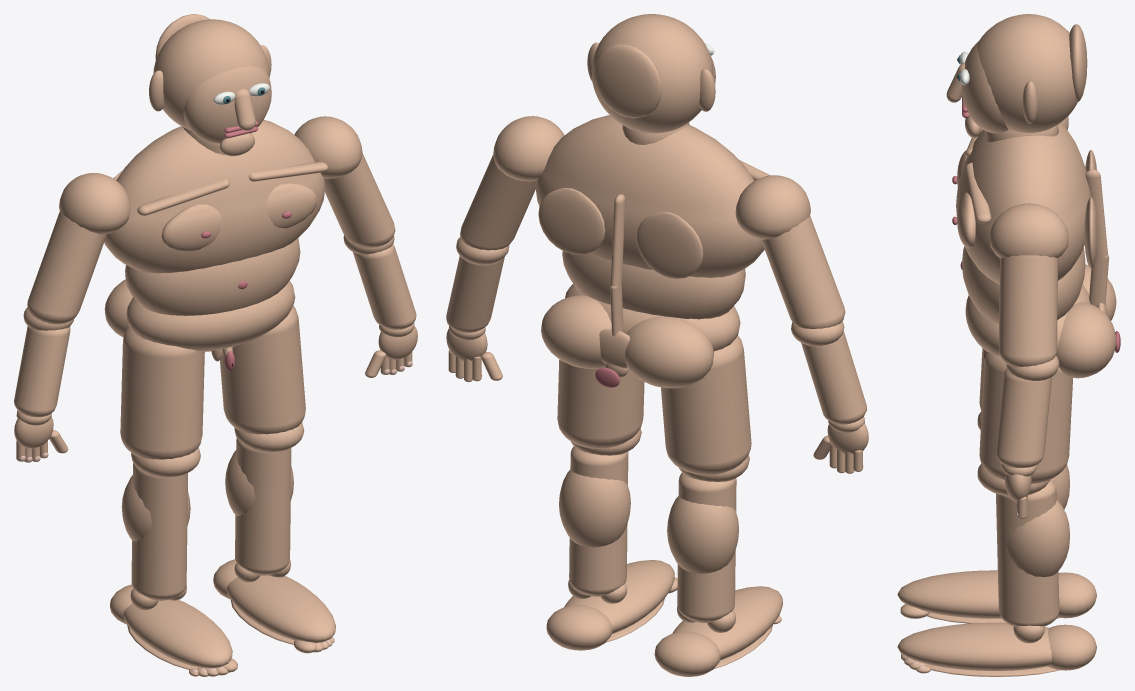
File: body-kleinkind-maennlich-v2.glb
The picture shows the model from 3 angles, left to right: view 1: azimuth 30°, elevation 25°; view 2: azimuth 150°, elevation 25°; view 3: azimuth 270°, elevation 25°; orthographic projection. The views are drawn at different scales.
Parts seen in each view (by area): view 1: zone__surface-chest, zone__surface-thigh-left, zone__surface-thigh-right, zone__surface-abdomen, zone__surface-scalp, zone__surface-lower-leg-right, zone__surface-lower-leg-left, zone__surface-pelvis, zone__surface-upper-arm-left, zone__surface-foot-right, zone__surface-foot-left, zone__surface-upper-arm-right (+18 smaller); view 2: zone__surface-chest, zone__surface-thigh-left, zone__surface-scalp, zone__surface-abdomen, zone__surface-thigh-right, zone__surface-upper-arm-left, zone__surface-buttock-left, zone__surface-calf-right, zone__surface-calf-left, zone__surface-lower-leg-left, zone__surface-lower-leg-right, zone__surface-upper-arm-right (+19 smaller); view 3: zone__surface-chest, zone__surface-scalp, zone__surface-upper-arm-right, zone__surface-foot-right, zone__surface-lower-leg-right, zone__surface-thigh-right, zone__surface-forearm-right, zone__surface-foot-left, zone__surface-shoulder-right, zone__surface-buttock-right, zone__surface-calf-right, zone__surface-abdomen (+21 smaller).
Boxes of the visible parts, left/top/right/bottom form: zone__surface-chest: left=104, top=120, right=324, bottom=273; zone__surface-thigh-left: left=120, top=327, right=204, bottom=459; zone__surface-thigh-right: left=220, top=305, right=305, bottom=434; zone__surface-abdomen: left=125, top=238, right=300, bottom=315; zone__surface-scalp: left=153, top=19, right=269, bottom=130; zone__surface-lower-leg-right: left=235, top=438, right=291, bottom=575; zone__surface-lower-leg-left: left=131, top=463, right=187, bottom=600; zone__surface-pelvis: left=126, top=280, right=295, bottom=351; zone__surface-upper-arm-left: left=27, top=212, right=106, bottom=324; zone__surface-foot-right: left=226, top=575, right=335, bottom=642; zone__surface-foot-left: left=123, top=600, right=232, bottom=668; zone__surface-upper-arm-right: left=324, top=153, right=395, bottom=247; zone__surface-chest: left=535, top=115, right=764, bottom=277; zone__surface-thigh-left: left=661, top=336, right=751, bottom=475; zone__surface-scalp: left=591, top=14, right=713, bottom=133; zone__surface-abdomen: left=562, top=251, right=745, bottom=319; zone__surface-thigh-right: left=557, top=359, right=644, bottom=448; zone__surface-upper-arm-left: left=761, top=215, right=845, bottom=328; zone__surface-buttock-left: left=625, top=316, right=713, bottom=388; zone__surface-calf-right: left=559, top=469, right=630, bottom=547; zone__surface-calf-left: left=667, top=496, right=738, bottom=573; zone__surface-lower-leg-left: left=677, top=473, right=736, bottom=622; zone__surface-lower-leg-right: left=569, top=446, right=628, bottom=596; zone__surface-upper-arm-right: left=460, top=155, right=535, bottom=250; zone__surface-chest: left=956, top=123, right=1090, bottom=284; zone__surface-scalp: left=977, top=14, right=1077, bottom=132; zone__surface-upper-arm-right: left=999, top=255, right=1058, bottom=366; zone__surface-foot-right: left=897, top=622, right=1051, bottom=670; zone__surface-lower-leg-right: left=996, top=479, right=1059, bottom=626; zone__surface-thigh-right: left=979, top=351, right=1072, bottom=483; zone__surface-forearm-right: left=996, top=368, right=1051, bottom=467; zone__surface-foot-left: left=897, top=570, right=1001, bottom=618; zone__surface-shoulder-right: left=989, top=203, right=1068, bottom=257; zone__surface-buttock-right: left=1056, top=302, right=1116, bottom=378; zone__surface-calf-right: left=1007, top=499, right=1069, bottom=577; zone__surface-abdomen: left=962, top=246, right=1085, bottom=323.
Size of the model in its own units: 0.7021 by 0.9994 by 0.3264.
